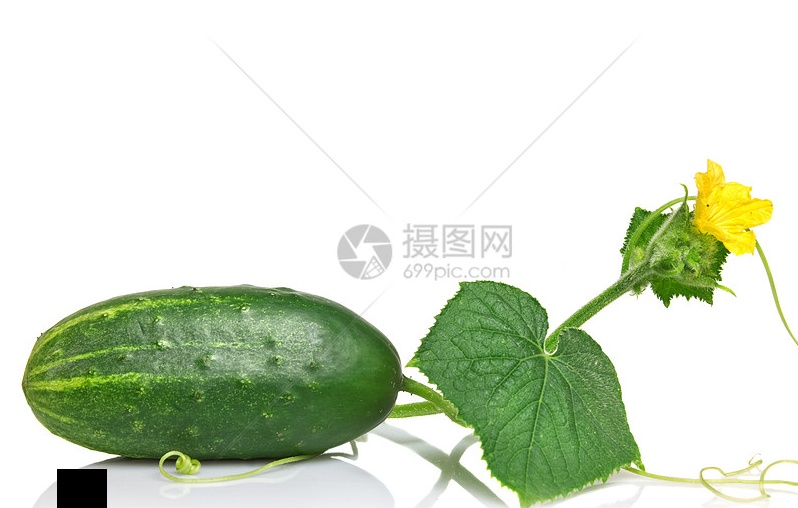cucumber: (21, 290, 405, 462)
cucumber_plant: (409, 140, 786, 501)
